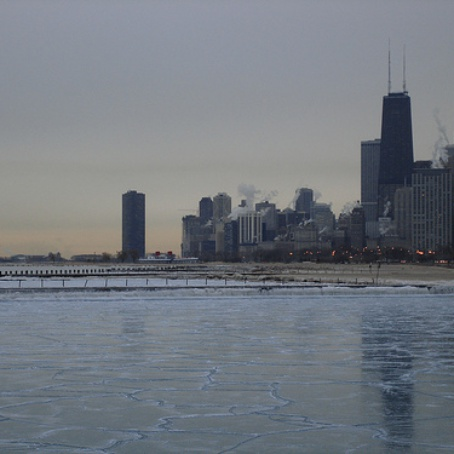building: (378, 86, 415, 224), (404, 165, 454, 252), (358, 137, 389, 252), (179, 187, 215, 259), (118, 188, 147, 261)
sea: (1, 279, 454, 454)
sky: (1, 1, 361, 200)
